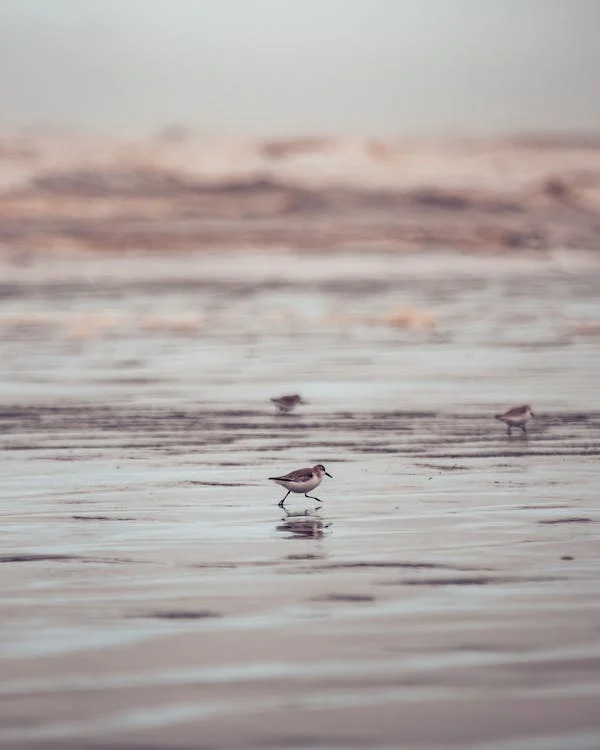Walking: (253, 453, 365, 529), (477, 384, 564, 457), (260, 380, 325, 428)
